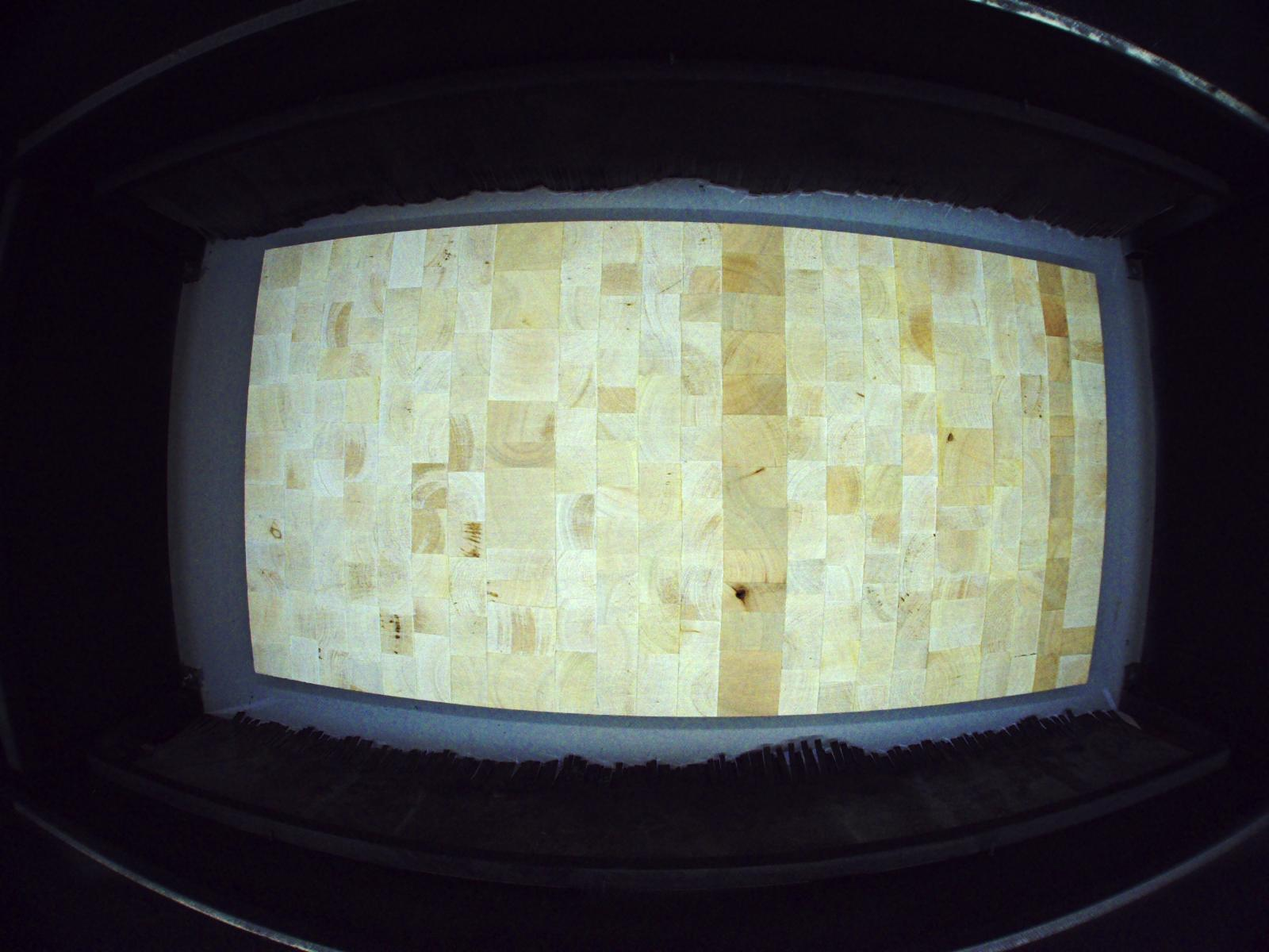nudillo: (732, 583, 750, 603)
